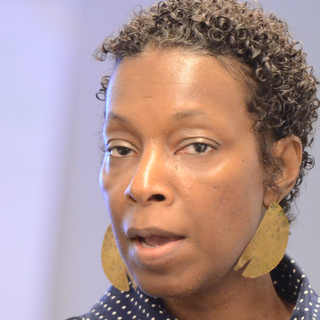eye: (175, 135, 223, 160), (100, 139, 142, 164)
